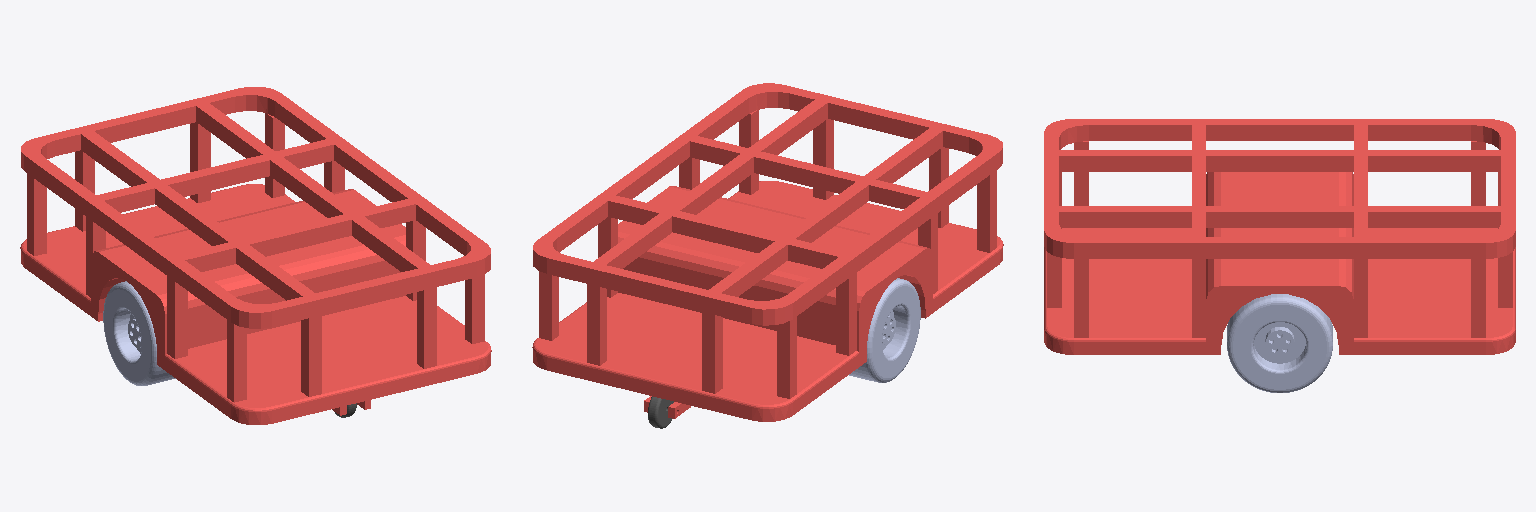
URDF robot description (car_model_t1):
<?xml version="1.0" encoding="utf-8"?>
<!-- This URDF was automatically created by SolidWorks to URDF Exporter! Originally created by [author] ([email redacted]) 
     Commit Version: 1.5.0-0-g9aa0fdb  Build Version: 1.5.7004.21443
     For more information, please see http://wiki.ros.org/sw_urdf_exporter -->
<robot
  name="car_model_t1">
  <link
    name="base_link">
    <inertial>
      <origin
        xyz="0.0060229 0.011392 0.15352"
        rpy="0 0 0" />
      <mass
        value="0.18739" />
      <inertia
        ixx="0.00035976"
        ixy="4.5411E-20"
        ixz="-1.1207E-21"
        iyy="0.00018258"
        iyz="2.7143E-08"
        izz="0.00047754" />
    </inertial>
    <visual>
      <origin
        xyz="0 0 0"
        rpy="0 0 0" />
      <geometry>
        <mesh
          filename="package://car_model_t1/meshes/base_link.STL" />
      </geometry>
      <material
        name="">
        <color
          rgba="1 0.40784 0.39216 1" />
      </material>
    </visual>
    <collision>
      <origin
        xyz="0 0 0"
        rpy="0 0 0" />
      <geometry>
        <mesh
          filename="package://car_model_t1/meshes/base_link.STL" />
      </geometry>
    </collision>
  </link>
  <link
    name="left_wheel">
    <inertial>
      <origin
        xyz="0 -0.00032962 0"
        rpy="0 0 0" />
      <mass
        value="0.013351" />
      <inertia
        ixx="1.4054E-06"
        ixy="3.7516E-23"
        ixz="3.2612E-24"
        iyy="2.3499E-06"
        iyz="-3.6115E-23"
        izz="1.4054E-06" />
    </inertial>
    <visual>
      <origin
        xyz="0 0 0"
        rpy="0 0 0" />
      <geometry>
        <mesh
          filename="package://car_model_t1/meshes/left_wheel.STL" />
      </geometry>
      <material
        name="">
        <color
          rgba="0.79608 0.82353 0.93725 1" />
      </material>
    </visual>
    <collision>
      <origin
        xyz="0 0 0"
        rpy="0 0 0" />
      <geometry>
        <mesh
          filename="package://car_model_t1/meshes/left_wheel.STL" />
      </geometry>
    </collision>
  </link>
  <joint
    name="base_to_left"
    type="continuous">
    <origin
      xyz="0.048523 0.011386 0.142"
      rpy="0 0 -1.5708" />
    <parent
      link="base_link" />
    <child
      link="left_wheel" />
    <axis
      xyz="0 -1 0" />
    <safety_controller
      k_velocity="0" />
  </joint>
  <link
    name="right_wheel">
    <inertial>
      <origin
        xyz="1.7347E-18 0.00033063 0"
        rpy="0 0 0" />
      <mass
        value="0.013453" />
      <inertia
        ixx="1.4184E-06"
        ixy="-3.6757E-23"
        ixz="-1.1017E-23"
        iyy="2.3664E-06"
        iyz="-3.8007E-23"
        izz="1.4184E-06" />
    </inertial>
    <visual>
      <origin
        xyz="0 0 0"
        rpy="0 0 0" />
      <geometry>
        <mesh
          filename="package://car_model_t1/meshes/right_wheel.STL" />
      </geometry>
      <material
        name="">
        <color
          rgba="0.79608 0.82353 0.93725 1" />
      </material>
    </visual>
    <collision>
      <origin
        xyz="0 0 0"
        rpy="0 0 0" />
      <geometry>
        <mesh
          filename="package://car_model_t1/meshes/right_wheel.STL" />
      </geometry>
    </collision>
  </link>
  <joint
    name="base_to_right"
    type="continuous">
    <origin
      xyz="-0.036527 0.011386 0.142"
      rpy="0 0 -1.5708" />
    <parent
      link="base_link" />
    <child
      link="right_wheel" />
    <axis
      xyz="0 -1 0" />
    <safety_controller
      k_velocity="0" />
  </joint>
  <link
    name="front_wheel">
    <inertial>
      <origin
        xyz="0 8.6736E-19 0"
        rpy="0 0 0" />
      <mass
        value="0.00059041" />
      <inertia
        ixx="7.8748E-09"
        ixy="2.9696E-24"
        ixz="-2.1139E-26"
        iyy="1.4243E-08"
        iyz="-2.6839E-25"
        izz="7.8748E-09" />
    </inertial>
    <visual>
      <origin
        xyz="0 0 0"
        rpy="0 0 0" />
      <geometry>
        <mesh
          filename="package://car_model_t1/meshes/front_wheel.STL" />
      </geometry>
      <material
        name="">
        <color
          rgba="0.41176 0.41176 0.41176 1" />
      </material>
    </visual>
    <collision>
      <origin
        xyz="0 0 0"
        rpy="0 0 0" />
      <geometry>
        <mesh
          filename="package://car_model_t1/meshes/front_wheel.STL" />
      </geometry>
    </collision>
  </link>
  <joint
    name="base_to_front"
    type="continuous">
    <origin
      xyz="0.0060229 -0.047114 0.131"
      rpy="0 0 -1.5708" />
    <parent
      link="base_link" />
    <child
      link="front_wheel" />
    <axis
      xyz="0 0 -1" />
    <safety_controller
      k_velocity="0" />
  </joint>
  <link
    name="back_wheel">
    <inertial>
      <origin
        xyz="0 0 0"
        rpy="0 0 0" />
      <mass
        value="0.00059041" />
      <inertia
        ixx="7.8748E-09"
        ixy="-1.0069E-24"
        ixz="-3.543E-24"
        iyy="1.4243E-08"
        iyz="1.3457E-25"
        izz="7.8748E-09" />
    </inertial>
    <visual>
      <origin
        xyz="0 0 0"
        rpy="0 0 0" />
      <geometry>
        <mesh
          filename="package://car_model_t1/meshes/back_wheel.STL" />
      </geometry>
      <material
        name="">
        <color
          rgba="0.41176 0.41176 0.41176 1" />
      </material>
    </visual>
    <collision>
      <origin
        xyz="0 0 0"
        rpy="0 0 0" />
      <geometry>
        <mesh
          filename="package://car_model_t1/meshes/back_wheel.STL" />
      </geometry>
    </collision>
  </link>
  <joint
    name="base_to_back"
    type="continuous">
    <origin
      xyz="0.0060229 0.082886 0.131"
      rpy="0 0 -1.5708" />
    <parent
      link="base_link" />
    <child
      link="back_wheel" />
    <axis
      xyz="0 0 -1" />
    <safety_controller
      k_velocity="0" />
  </joint>
</robot>

--- What the picture shows (computed from the rendered views, not written in the file) ---
Views: 3 orthographic renders of the robot side by side, from view 1: azimuth 30°, elevation 25°; view 2: azimuth 150°, elevation 25°; view 3: azimuth 270°, elevation 25°.
Model car_model_t1 with 5 links and 4 joints (4 continuous), rooted at base_link, posed all joints at 0.
Visible links, largest first — view 1: base_link, right_wheel; view 2: base_link, right_wheel, back_wheel; view 3: base_link, left_wheel.
Link boxes in pixels (x1,y1,x2,y2): base_link: (20, 87, 491, 424); right_wheel: (103, 281, 175, 385); base_link: (532, 83, 1003, 421); right_wheel: (849, 278, 920, 382); back_wheel: (648, 396, 673, 428); base_link: (1044, 119, 1515, 354); left_wheel: (1227, 294, 1332, 392).
Size in the robot's own frame: 0.1001 by 0.16 by 0.057 metres.
Meshes: 5 distinct files referenced, 5 mesh visuals loaded (5 binary STL).